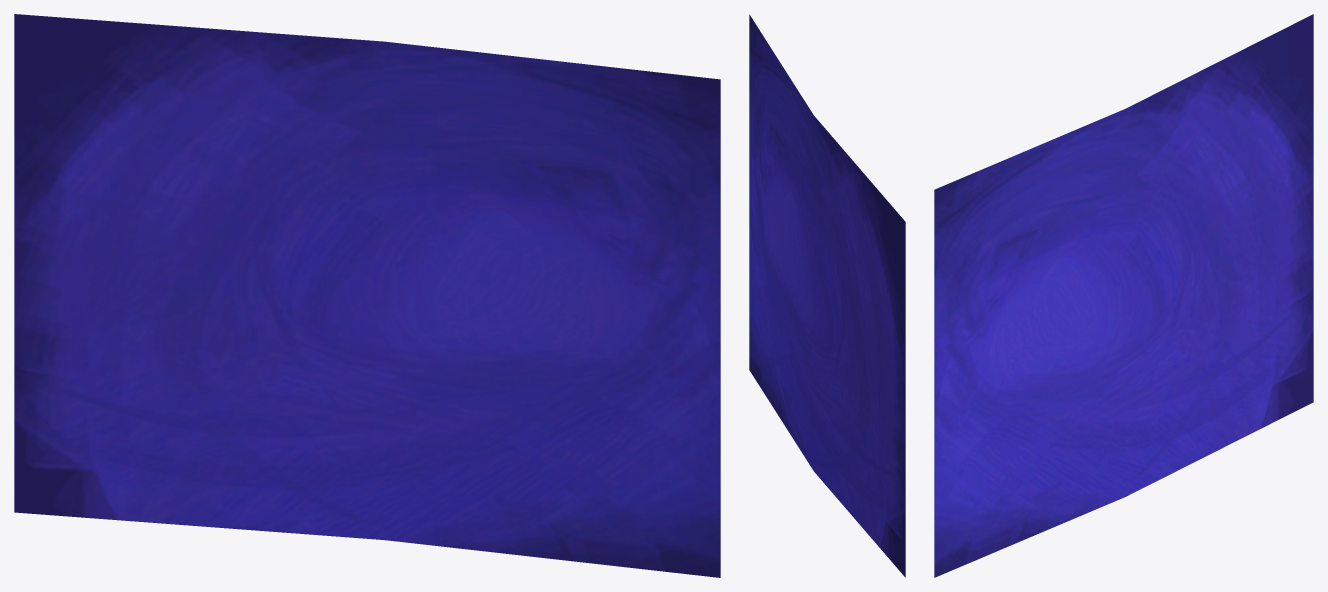
Rendered from SWORDLIGHT20_PS-AREA05-RANGE05_01.fbx.
The picture shows the model from 3 angles, left to right: view 1: azimuth 30°, elevation 25°; view 2: azimuth 150°, elevation 25°; view 3: azimuth 270°, elevation 25°; orthographic projection. The views are drawn at different scales.
Parts seen in each view (by area): view 1: SWORDLIGHT20_PS-AREA05-RANGE05_01; view 2: SWORDLIGHT20_PS-AREA05-RANGE05_01; view 3: SWORDLIGHT20_PS-AREA05-RANGE05_01.
Boxes of the visible parts, x1,y1,x2,y2 form: SWORDLIGHT20_PS-AREA05-RANGE05_01: [14, 14, 720, 577]; SWORDLIGHT20_PS-AREA05-RANGE05_01: [749, 14, 905, 577]; SWORDLIGHT20_PS-AREA05-RANGE05_01: [934, 14, 1313, 577].
Bounding box in the file's own units: 311954 × 321356 × 284589.
1 material, 1 textured.
